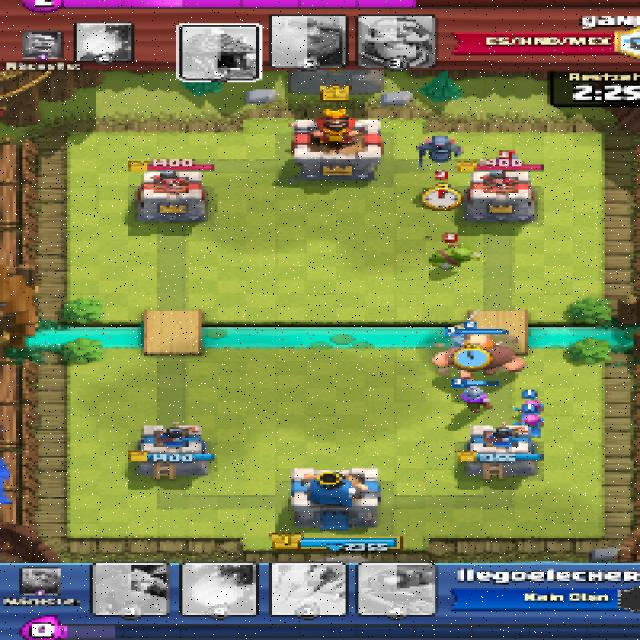Enemy-MiniPEKKA: (414, 136, 467, 163)
Player-Archer: (517, 415, 550, 436), (517, 398, 549, 419)
Player-Giant: (434, 334, 529, 382)
Player-GoblinCage: (426, 246, 486, 272)
Player-Knight: (451, 326, 497, 348)
Player-Musketeer: (457, 381, 496, 413)
